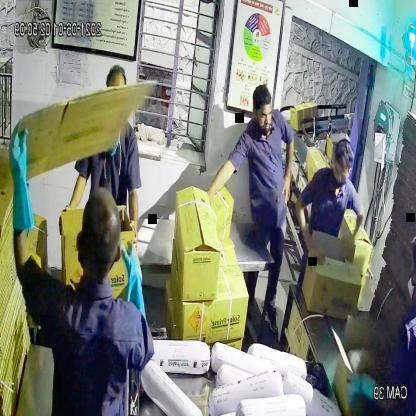no_goggles: (250, 105, 278, 126)
